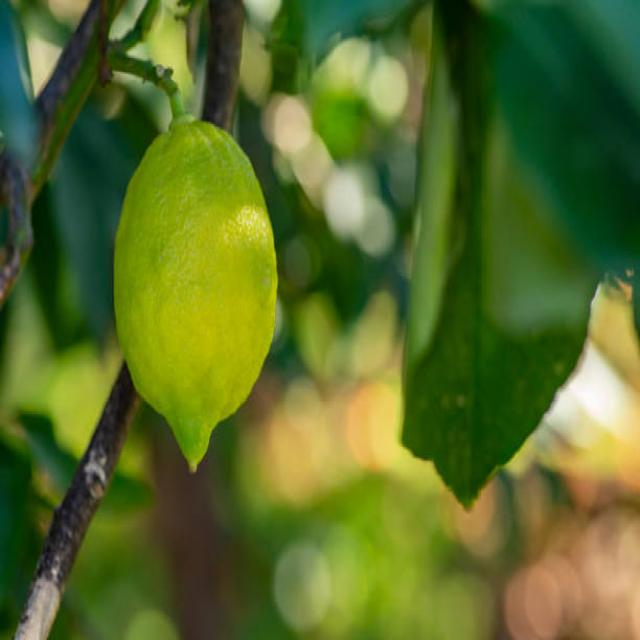Unripe: (114, 113, 278, 474)
